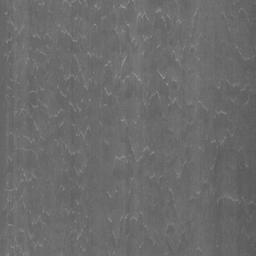Silk spot: (0, 0, 256, 256), (214, 225, 223, 256)
